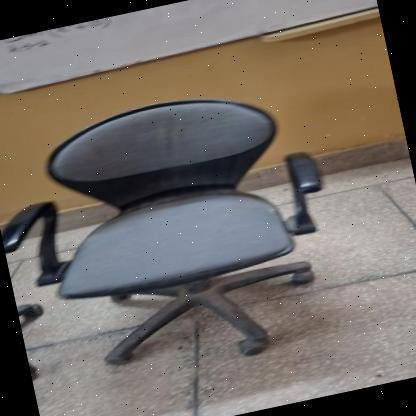chair: (0, 65, 364, 406)
